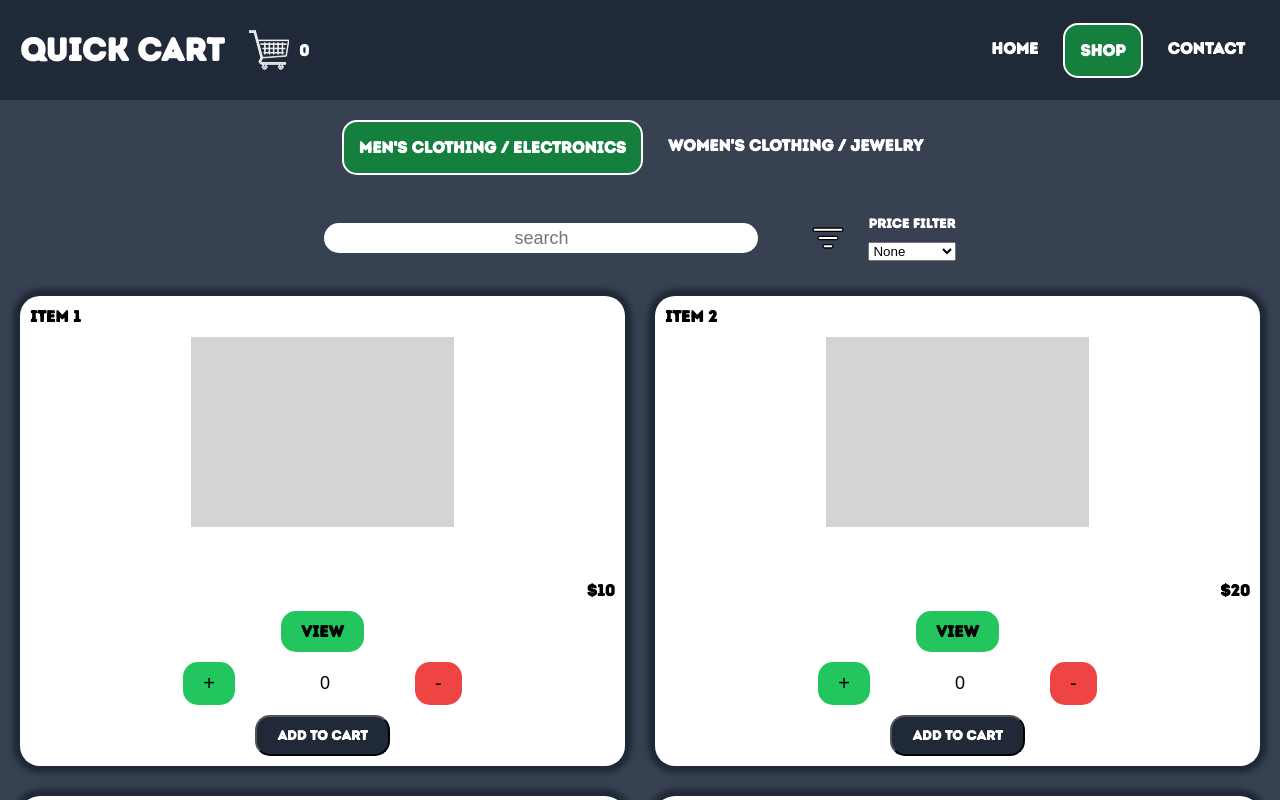
Test: Men component tests › decrements input value by 1 when - clicked
Click the 1st button "+" at coordinates (209, 684), box [183, 662, 235, 705]
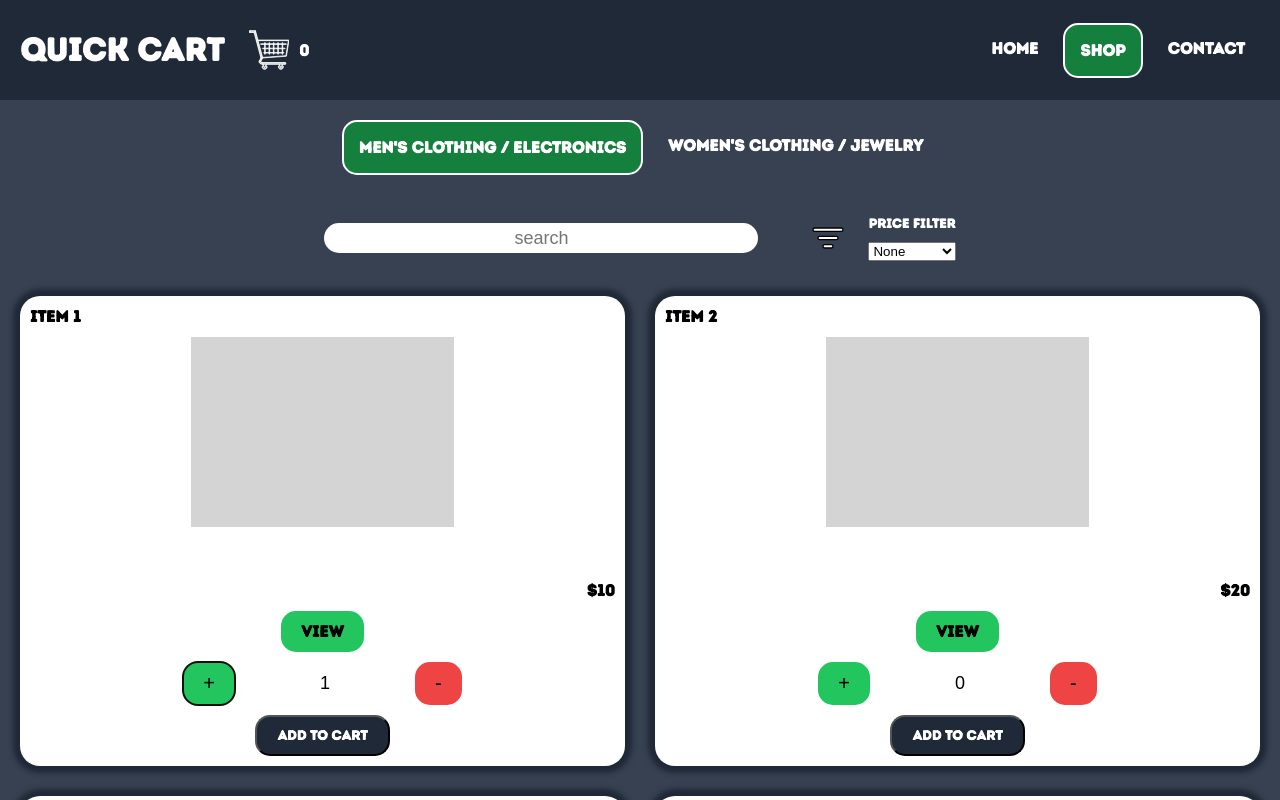
Click the 1st button "+" at coordinates (209, 684), box [183, 662, 235, 705]
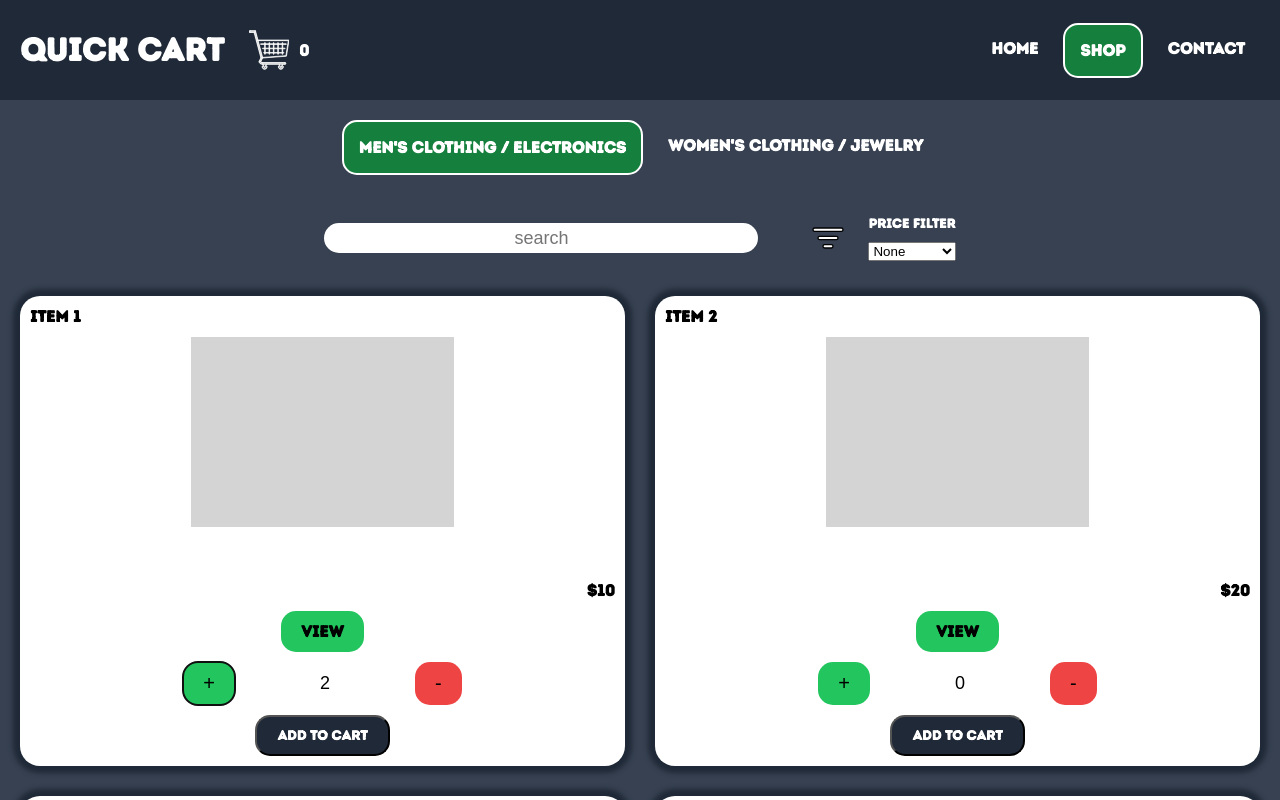
Click the button "-" below "10" at coordinates (438, 684), box [415, 662, 462, 705]
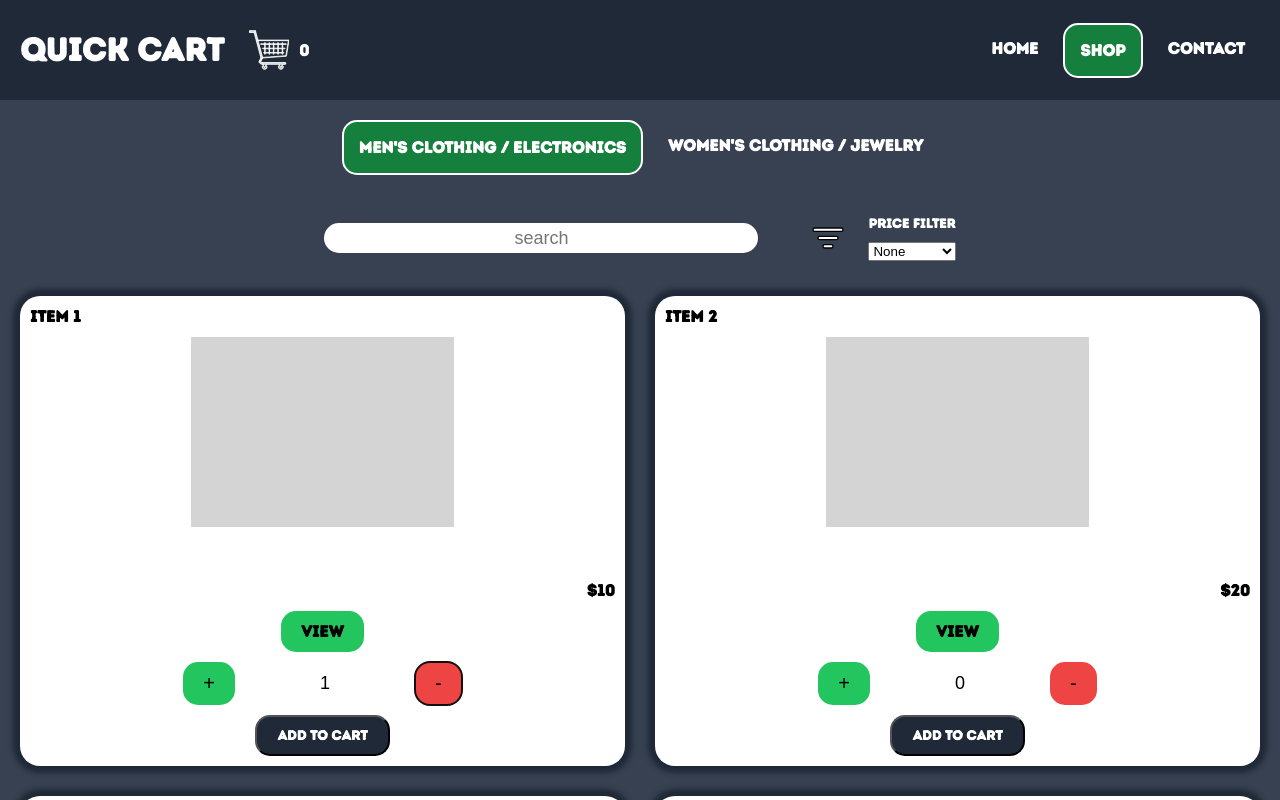
Now the field with test id "inputbox" below "10" holds "1", box [262, 668, 388, 698]
